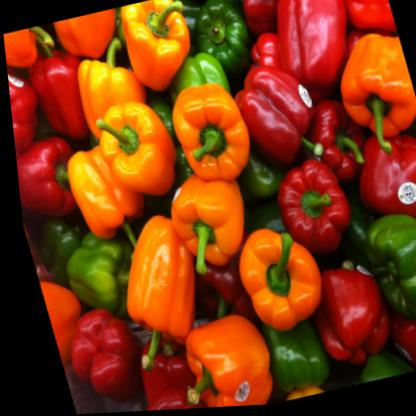bell_pepper: (88, 200, 216, 380), (216, 218, 333, 348), (321, 23, 416, 170), (76, 88, 187, 212), (224, 60, 332, 182), (157, 305, 273, 411), (158, 74, 256, 189), (260, 156, 359, 266), (111, 0, 204, 98), (348, 207, 416, 335), (11, 132, 88, 235)
